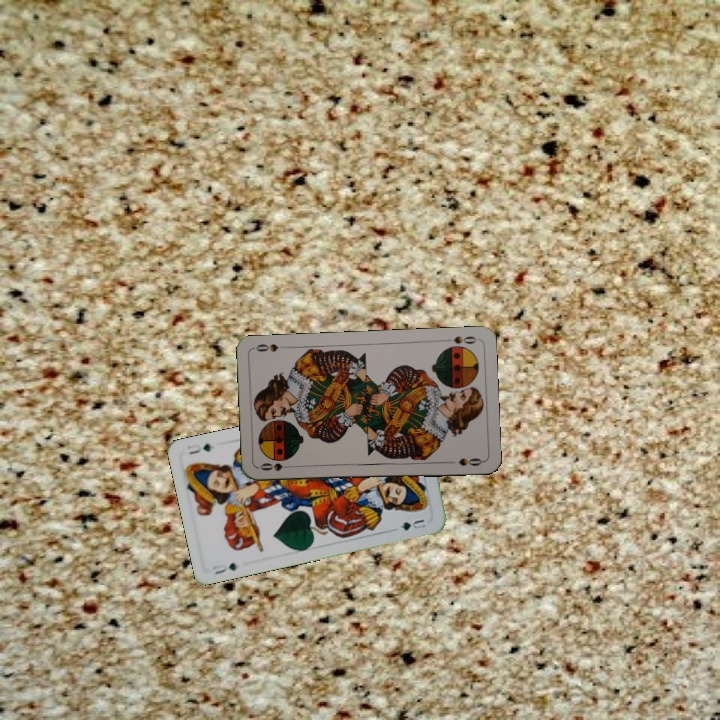GU: (209, 558, 240, 577)
SO: (256, 459, 297, 474), (439, 332, 479, 347)
